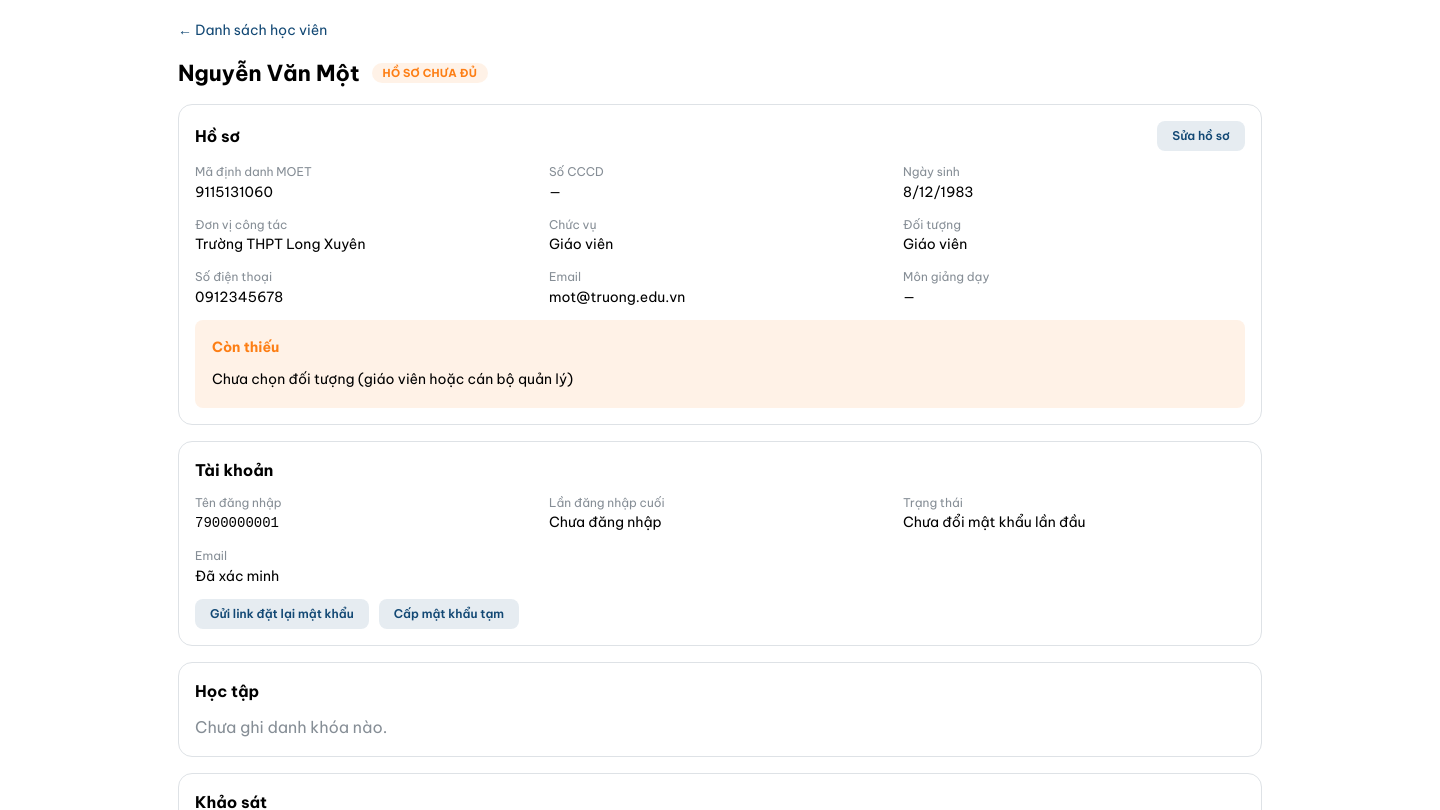
Test: Người hỗ trợ — thao tác tài khoản học viên › email đã xác minh -> gửi link, báo địa chỉ đã gửi
Click the button "Gửi link đặt lại mật khẩu" at (282, 614), box [195, 599, 369, 629]
(page scrolled)
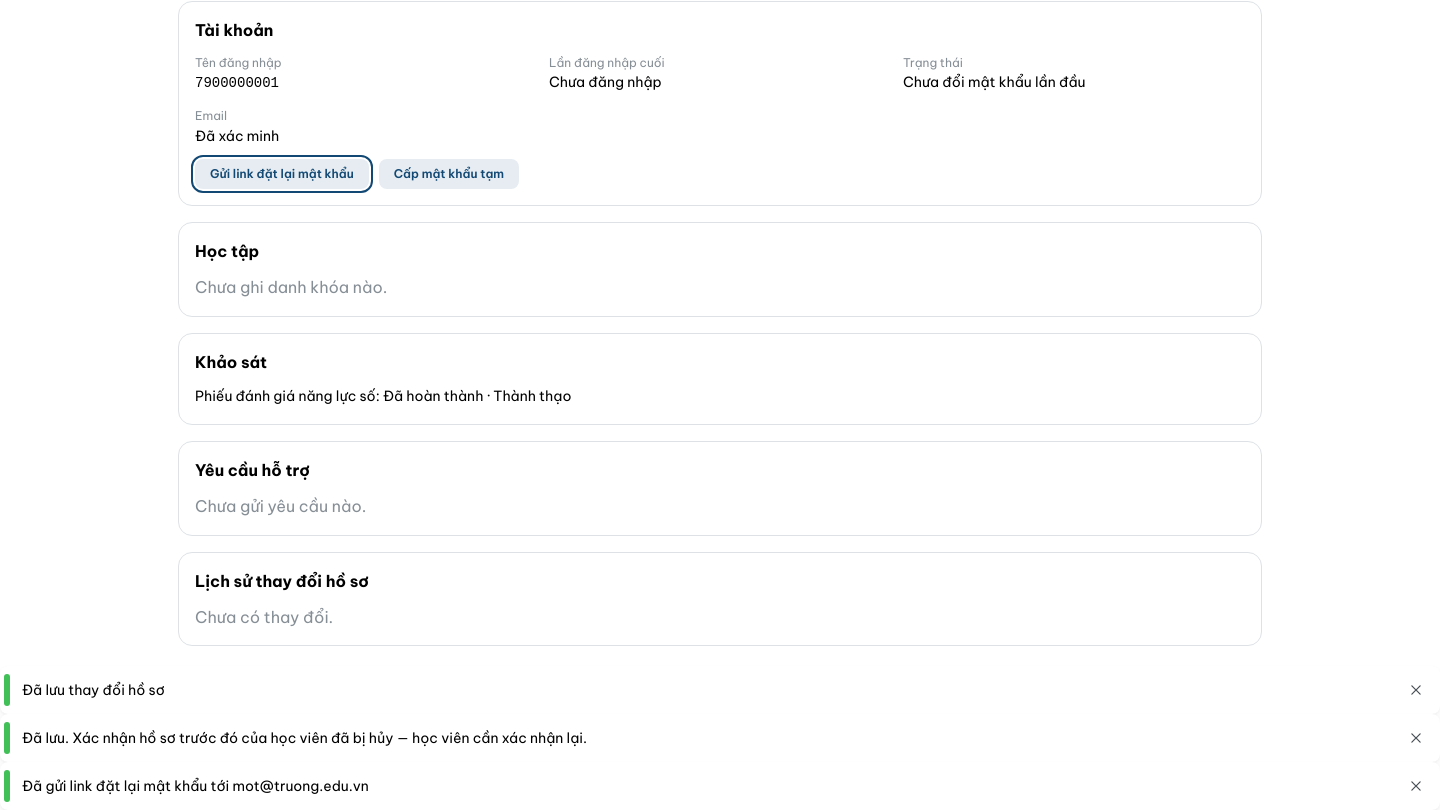
Check: the text "Đã gửi link đặt lại mật khẩu tới mot@truong.edu.vn" is shown, box [22, 777, 369, 795]
